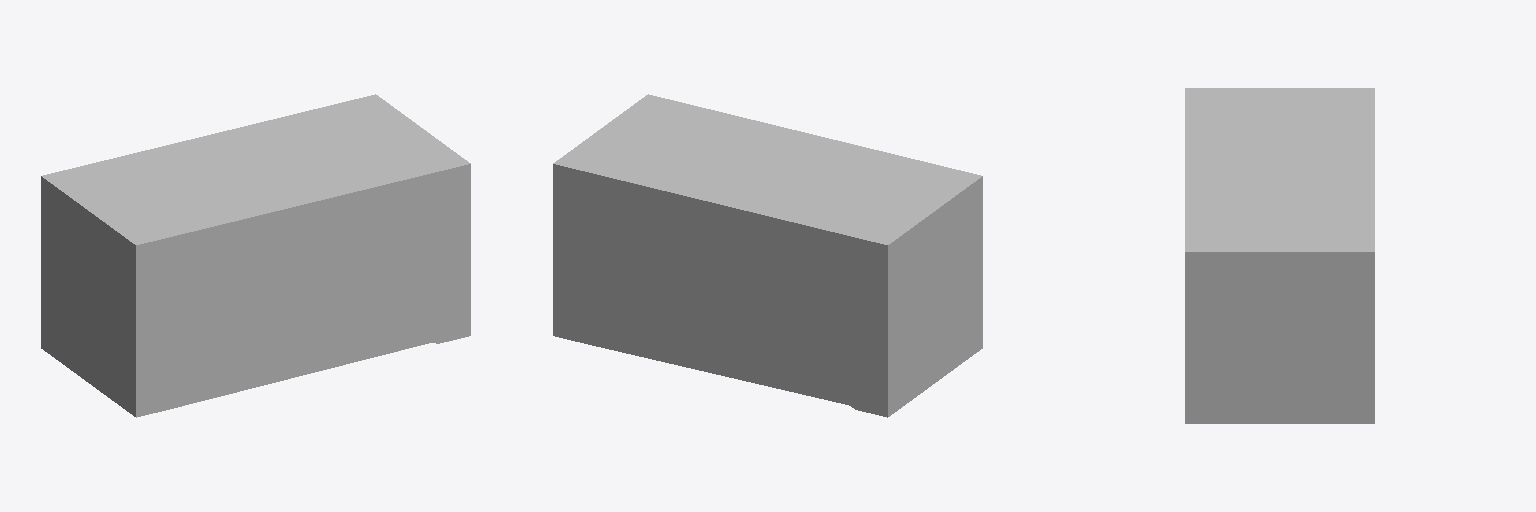
File: tunnelCollider.obj
3 renders of one model, left to right at view 1: azimuth 30°, elevation 25°; view 2: azimuth 150°, elevation 25°; view 3: azimuth 270°, elevation 25°, orthographic.
Parts seen in each view (by area): view 1: Cube.002; view 2: Cube.002; view 3: Cube.002.
Boxes of the visible parts, x1,y1,x2,y2 form: Cube.002: [41, 94, 470, 417]; Cube.002: [553, 94, 982, 417]; Cube.002: [1185, 88, 1374, 423].
Size of the model in its own units: 0.206 by 0.1012 by 0.1012.